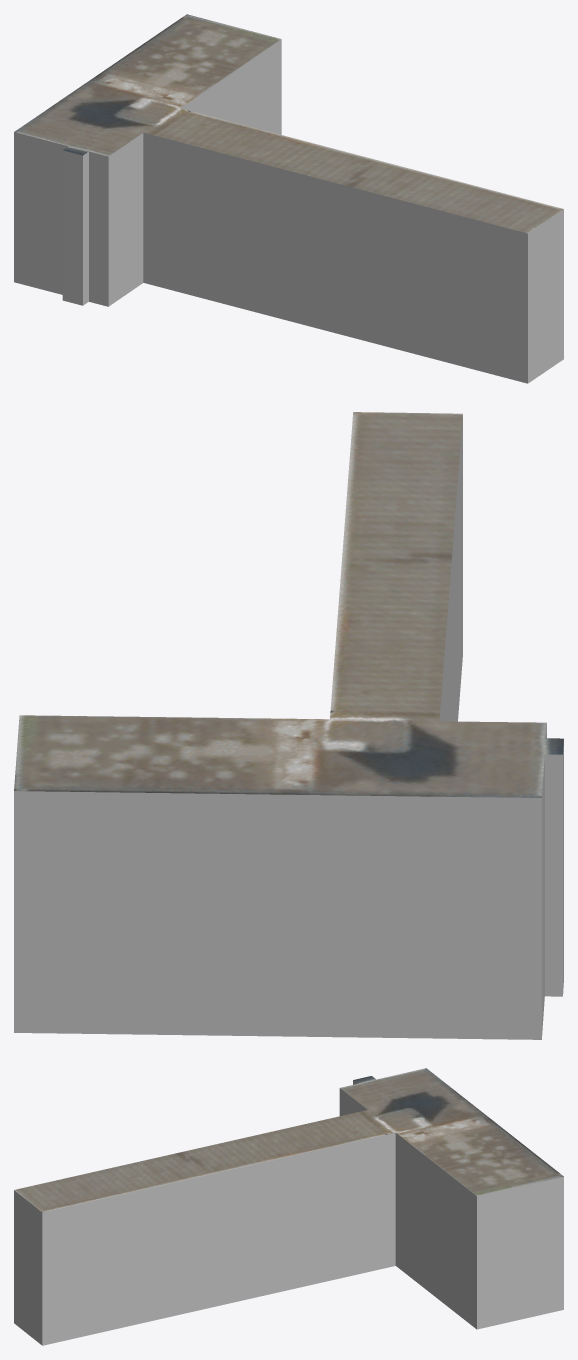
File: DEBW_0010007Tx6Z.gltf
3 views of the same model, one above another, from view 1: azimuth 30°, elevation 25°; view 2: azimuth 150°, elevation 25°; view 3: azimuth 270°, elevation 25° (orthographic). The views are drawn at different scales.
Visible parts, largest first — view 1: Z_UP; view 2: Z_UP; view 3: Z_UP.
Boxes of the visible parts, x1=… form: Z_UP: x1=14, y1=14, x2=563, y2=383; Z_UP: x1=14, y1=412, x2=563, y2=1039; Z_UP: x1=14, y1=1068, x2=563, y2=1345.
Size of the model in its own units: 38.57 by 16.6 by 62.07.
2 materials, 1 textured.
